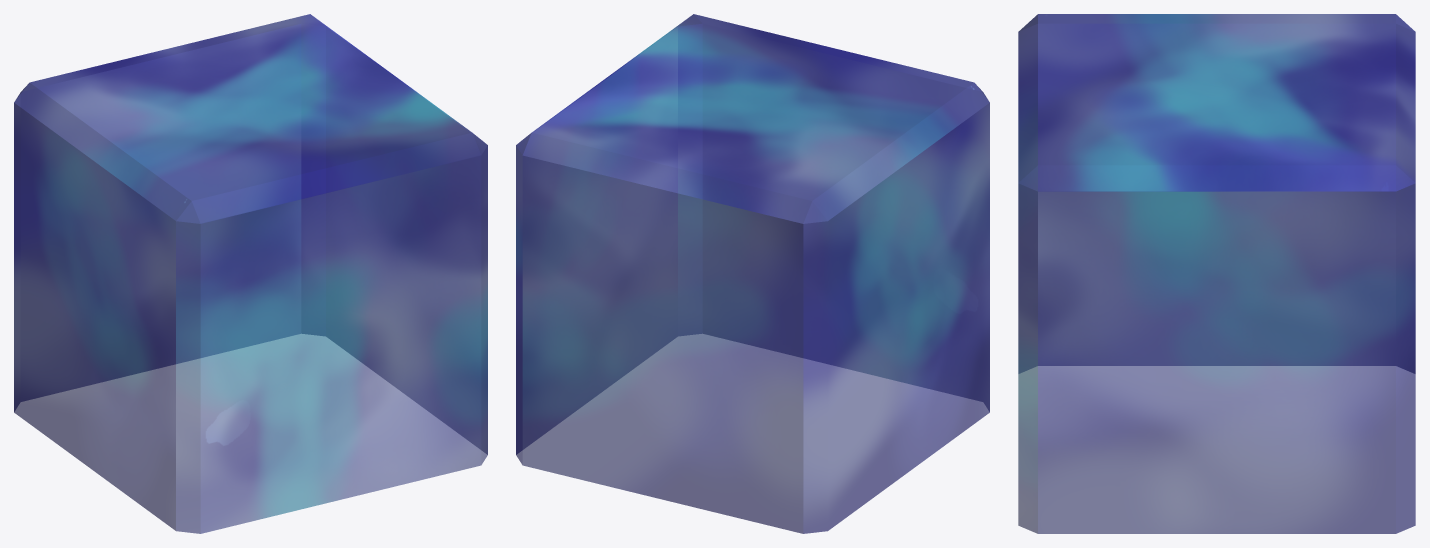
File: Water.fbx
3 renders of one model, left to right at view 1: azimuth 30°, elevation 25°; view 2: azimuth 150°, elevation 25°; view 3: azimuth 270°, elevation 25°, orthographic. The views are drawn at different scales.
Parts seen in each view (by area): view 1: Cube; view 2: Cube; view 3: Cube.
Part boxes in pixels (box(x1,y1,x2,y2)): Cube: box(14, 14, 487, 533); Cube: box(516, 14, 989, 533); Cube: box(1018, 14, 1415, 533).
Size of the model in its own units: 200 by 200 by 200.
